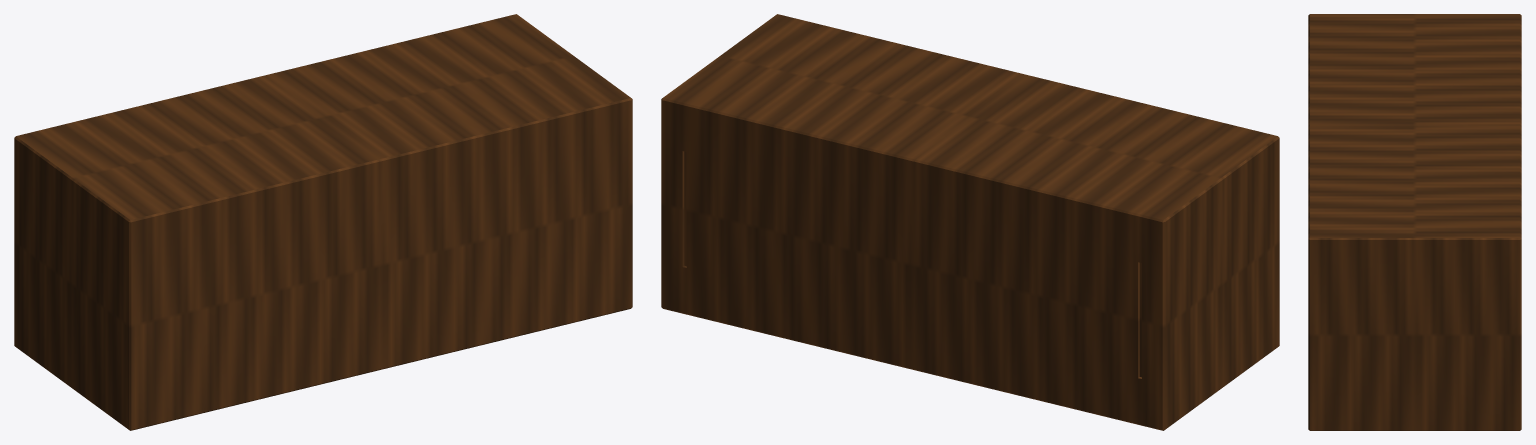
The model's file is half_beam.glb.
3 views of the same model, side by side, from view 1: azimuth 30°, elevation 25°; view 2: azimuth 150°, elevation 25°; view 3: azimuth 270°, elevation 25° (orthographic). The views are drawn at different scales.
Parts seen in each view (by area): view 1: half_beam.002; view 2: half_beam.002; view 3: half_beam.002.
Part boxes in pixels (x1,y1,x2,y2): half_beam.002: [14, 14, 632, 430]; half_beam.002: [661, 14, 1279, 430]; half_beam.002: [1308, 14, 1521, 430].
Size of the model in its own units: 0.5 by 0.2 by 0.2.
Materials: 1 (1 with a texture image).
